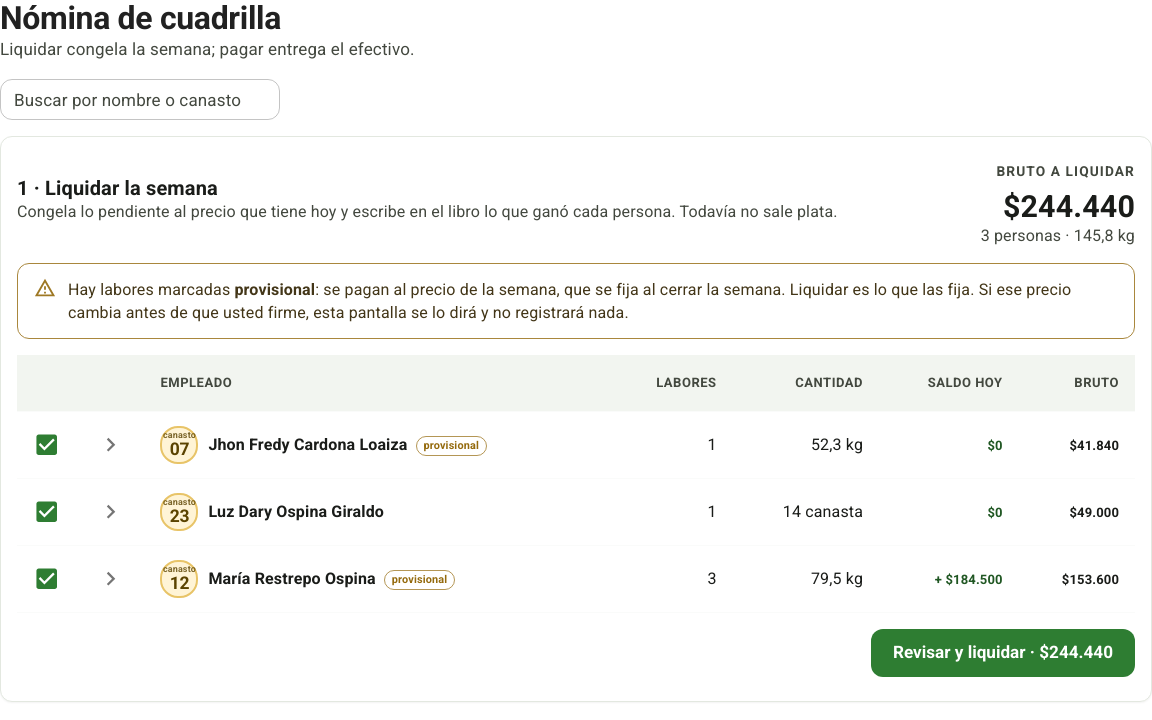
Test case: the race guard, applied to a group › if one person's gross changed, nothing is written for anybody and it says whose
Check: the heading "1 · Liquidar la semana" is shown, box [17, 176, 218, 200]
Click the button "Revisar y liquidar · $244.440".
click(1003, 653)  # box [871, 629, 1135, 677]
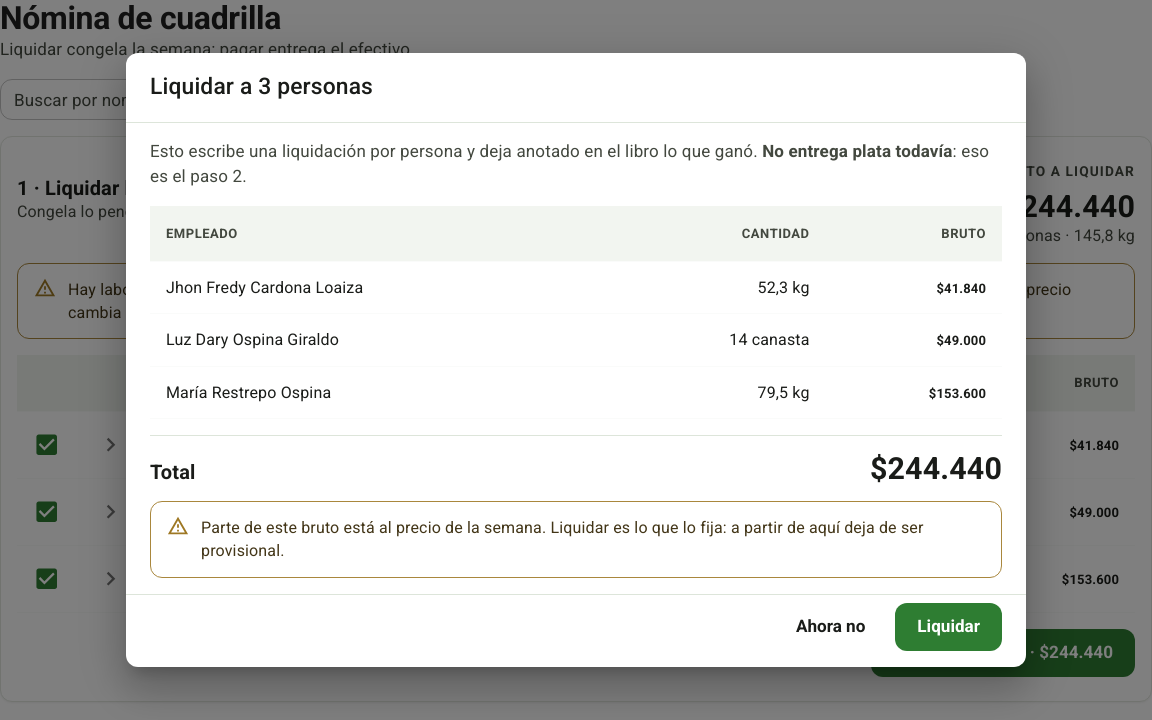
Click the button "Liquidar".
click(949, 627)  # box [895, 603, 1002, 651]
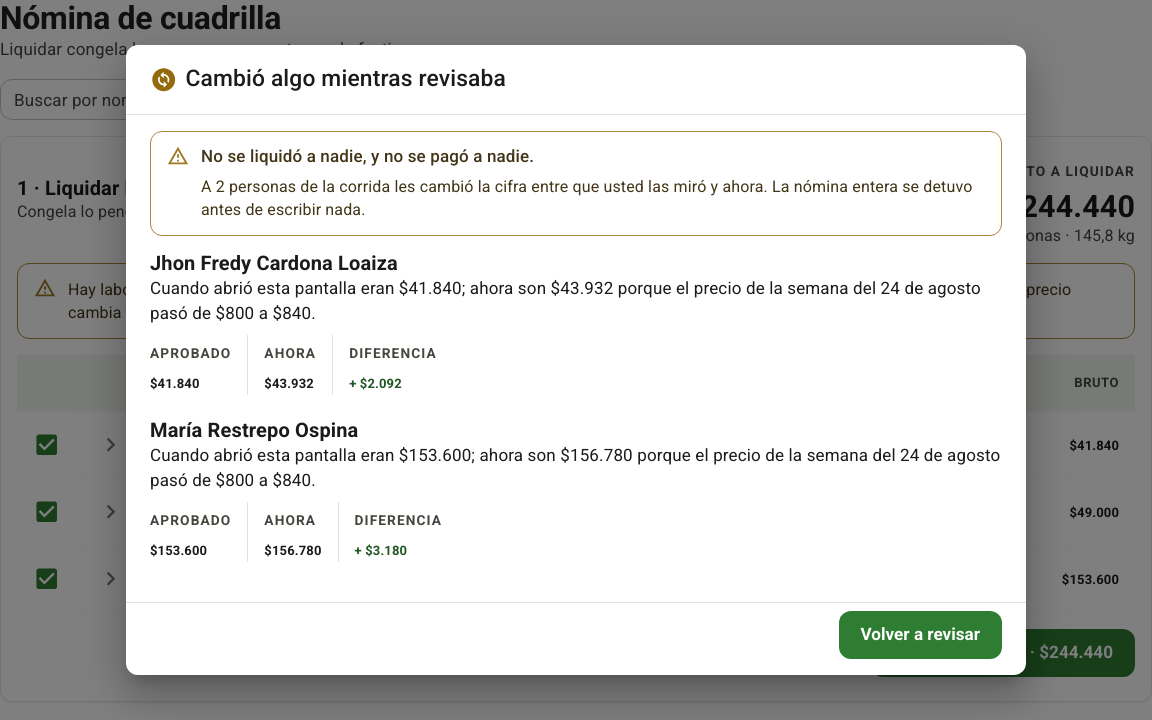
Check: the heading "Cambió algo mientras revisaba" is shown, box [150, 65, 506, 93]
Check: the text "No se liquidó a nadie, y no se pagó a nadie." is shown, box [201, 146, 534, 166]
Check: the text "Cuando abrió esta pantalla eran $153.600; ahora son $156.780 porque el precio de la semana del 24 de agosto pasó de " is shown, box [150, 444, 1000, 490]
